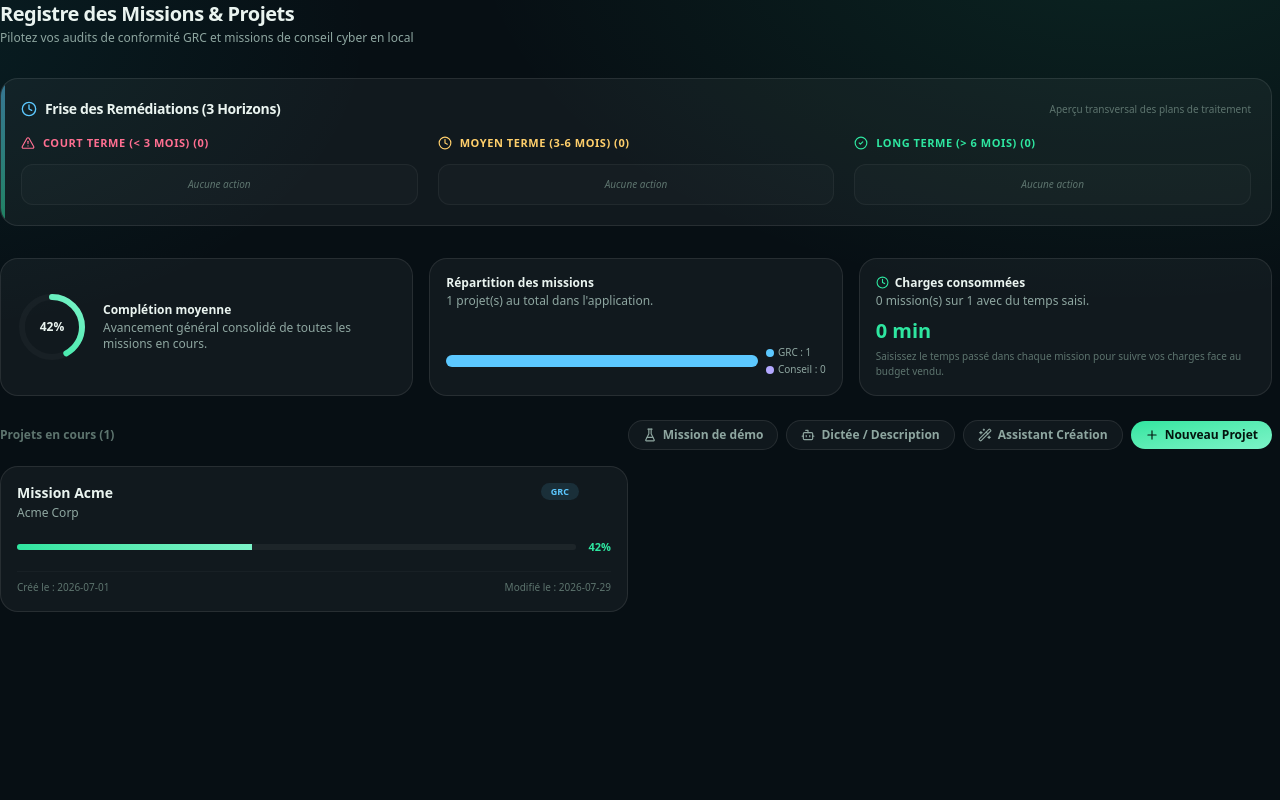
Scenario: Projects — caractérisation avant découpage › affiche le suivi du temps et le panneau d'archive sur toutes les phases
The image size is (1280, 800).
Step 1. Click the heading "Mission Acme" → coordinates (65, 492), box [17,482,113,502]
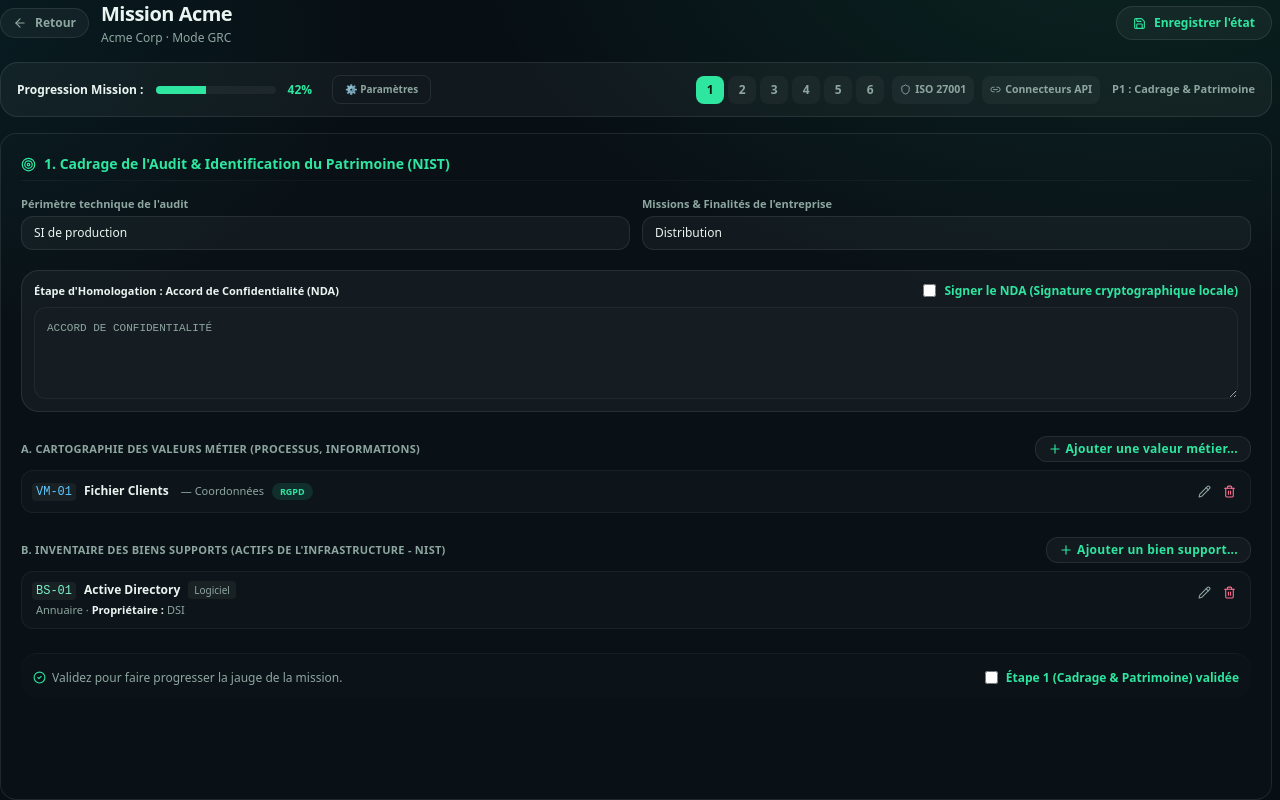
Expected: the text "Progression Mission :" is shown, [17,82,144,98]
Step 2. Click the button "⚙️ Paramètres" → coordinates (382, 90), box [332,75,431,104]
(page scrolled)
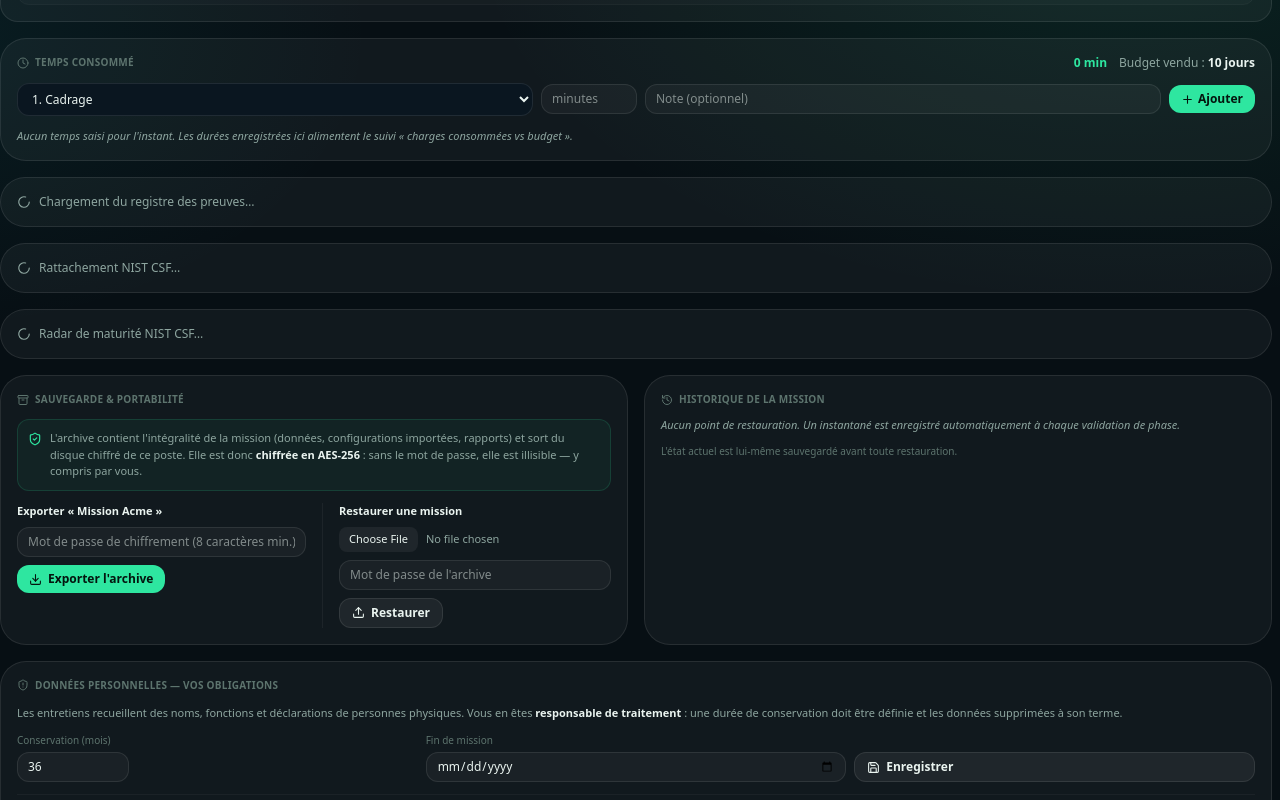
Expected: the text "Temps consommé" is shown, [17,55,134,70]
Expected: the text "Sauvegarde & portabilité" is shown, [17,392,184,406]
